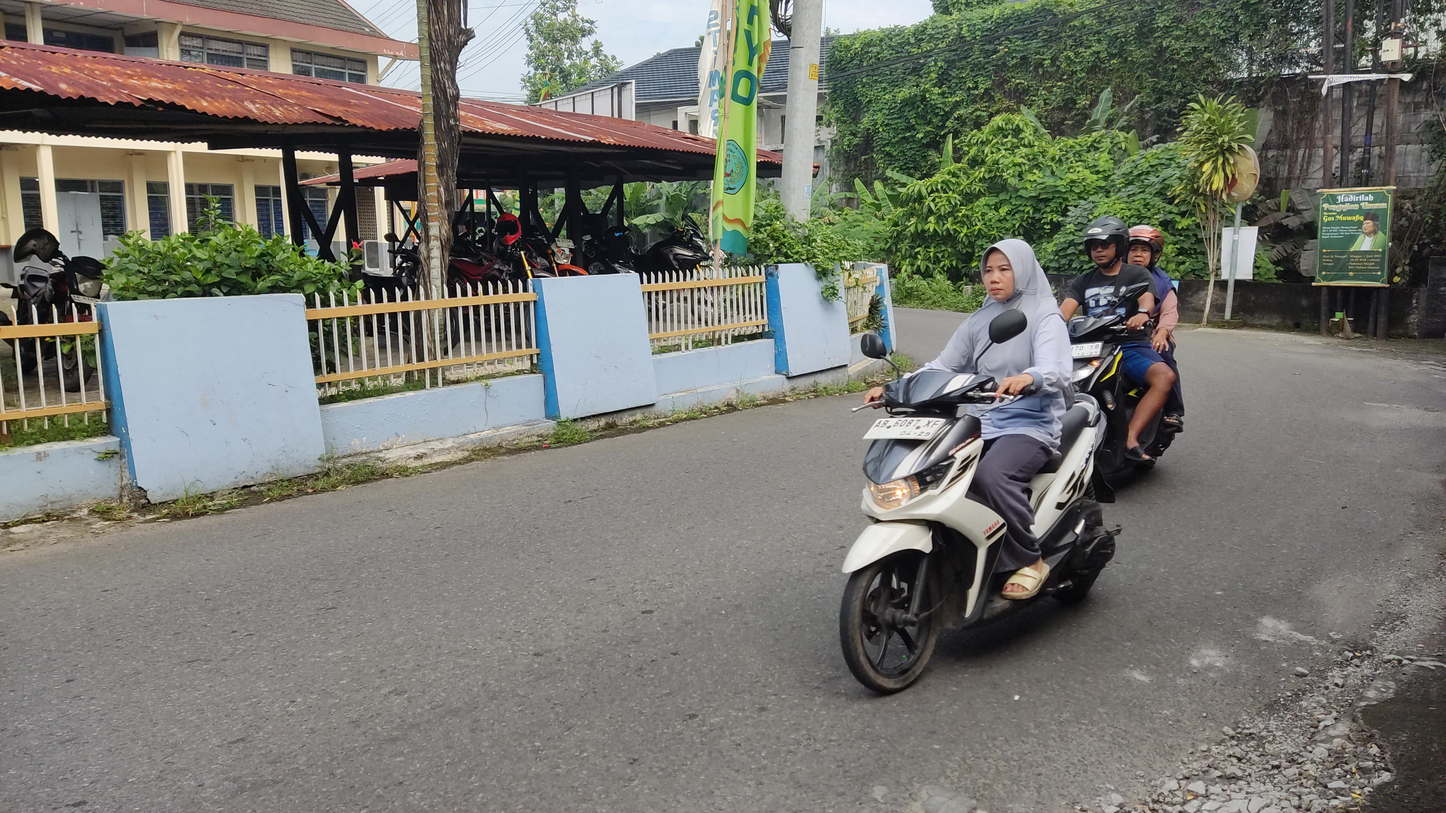nohelm: (975, 235, 1046, 313)
riding: (834, 224, 1117, 699)
